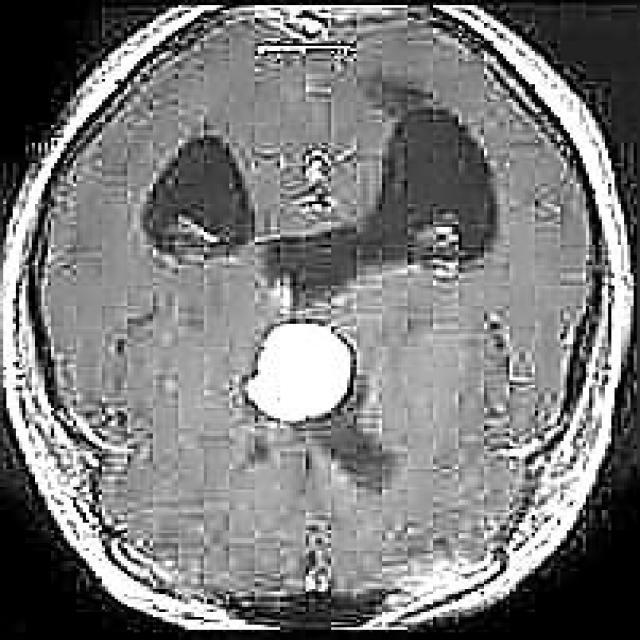Tumor: (253, 323, 354, 421)
